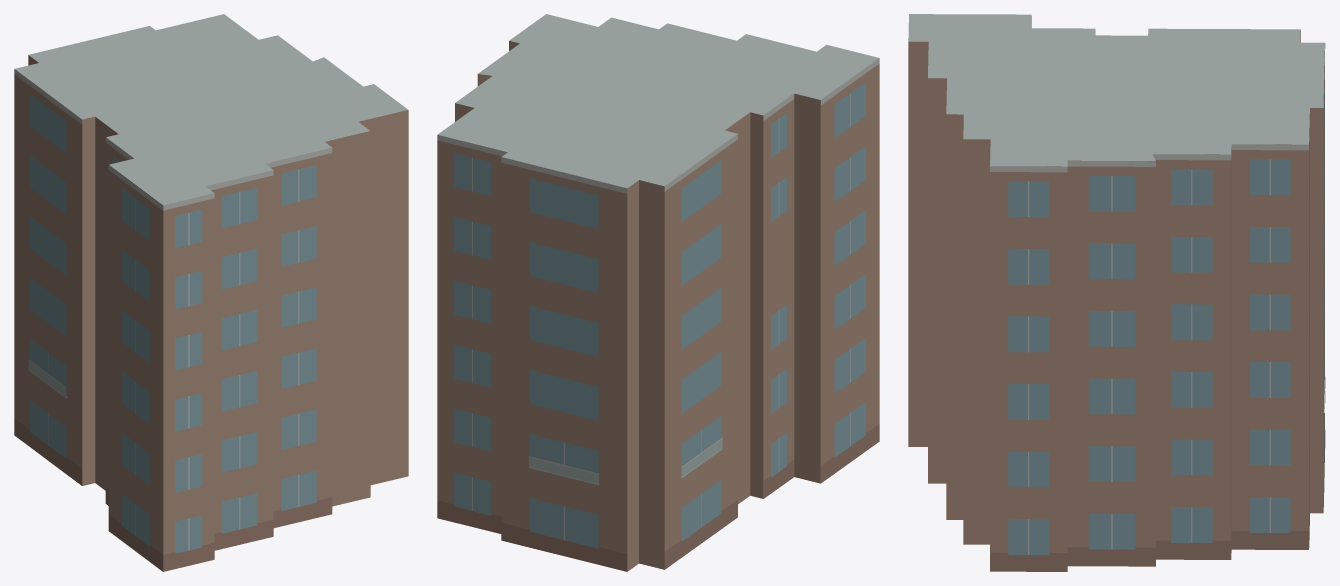
The model's file is survey-upis-32747596.glb.
3 renders of one model, left to right at view 1: azimuth 30°, elevation 25°; view 2: azimuth 150°, elevation 25°; view 3: azimuth 270°, elevation 25°, orthographic. The views are drawn at different scales.
Visible parts, largest first — view 1: survey-upis-32747596.tmp; view 2: survey-upis-32747596.tmp; view 3: survey-upis-32747596.tmp.
Part boxes in pixels (<box>): survey-upis-32747596.tmp: <box>14,14,408,571</box>; survey-upis-32747596.tmp: <box>437,14,879,571</box>; survey-upis-32747596.tmp: <box>908,14,1325,571</box>.
Bounding box in the file's own units: 13.72 × 17 × 15.87.
